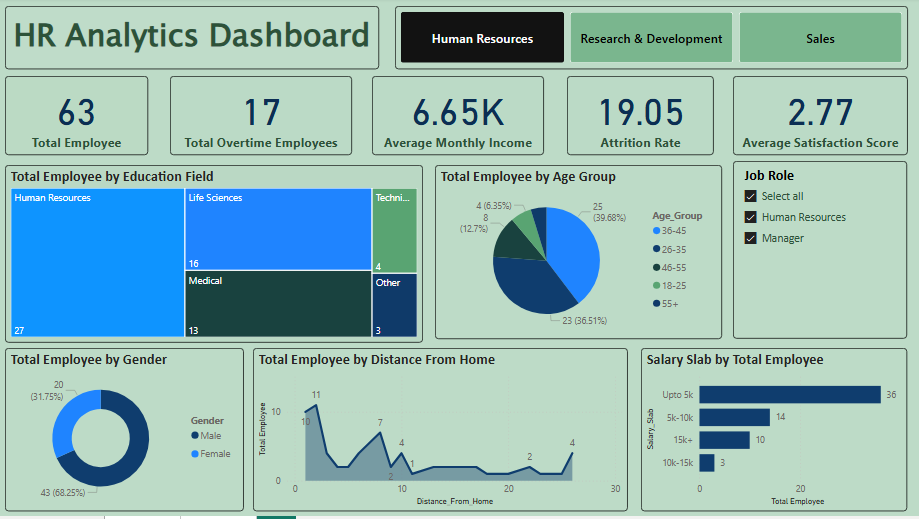

Layout of this report page (visuals, bound fields, positions):
{"tool":"powerbi","page":{"name":"Page 1","canvas":[1280,720],"ordinal":0},"visuals":[{"type":"textbox","box":[9.7,11.1,519.8,87.6],"z":0},{"type":"card","fields":{"Values":["HR_Analytics.Total Employee"]},"box":[9.7,108.4,198.8,109.8],"z":1000},{"type":"card","fields":{"Values":["HR_Analytics.Attrition Rate"]},"box":[790.9,108.4,204.3,109.8],"z":2000},{"type":"card","fields":{"Values":["HR_Analytics.Total Overtime Employees"]},"box":[239.1,108.4,253,109.8],"z":3000},{"type":"card","fields":{"Values":["HR_Analytics.Average Monthly Income"]},"box":[519.8,108.4,239.1,109.8],"z":4000},{"type":"donutChart","fields":{"Category":["HR_Analytics.Gender"],"Y":["HR_Analytics.Total Employee"]},"box":[9.7,486.5,332.2,226.6],"z":5000},{"type":"pieChart","title":"Total Employee by Age Group","fields":{"Category":["HR_Analytics.Age_Group"],"Y":["HR_Analytics.Total Employee"]},"box":[607.4,232.1,398.9,241.9],"z":6000},{"type":"treemap","title":"Total Employee by Education Field","fields":{"Group":["HR_Analytics.Education_Field"],"Values":["HR_Analytics.Total Employee"]},"box":[9.7,232.1,581,247.4],"z":7000},{"type":"advancedSlicerVisual","fields":{"Values":["HR_Analytics.Department"]},"box":[551.8,11.1,713.1,87.6],"z":8000},{"type":"areaChart","title":"Total Employee by Distance From Home","fields":{"Category":["HR_Analytics.Distance_From_Home"],"Y":["HR_Analytics.Total Employee"]},"box":[354.4,486.5,521.2,226.6],"z":9000},{"type":"clusteredBarChart","title":"Salary Slab by Total Employee","fields":{"Category":["HR_Analytics.Salary_Slab"],"Y":["HR_Analytics.Total Employee"]},"box":[893.7,486.5,369.7,226.6],"z":10000},{"type":"slicer","fields":{"Values":["HR_Analytics.Job_Role"]},"box":[1021.6,226.6,241.9,247.4],"z":11000},{"type":"card","fields":{"Values":["HR_Analytics.Average Satisfaction Score"]},"box":[1021.6,108.4,243.2,109.8],"z":13000}]}

Visuals, with their boxes in screenshot pixels (x1, y1, x2, y2), scaled from the page's 1280x720 canvas onto the 919x519 screenshot:
textbox: [left=7, top=8, right=380, bottom=71]
card - HR_Analytics.Total Employee: [left=7, top=78, right=150, bottom=157]
card - HR_Analytics.Attrition Rate: [left=568, top=78, right=715, bottom=157]
card - HR_Analytics.Total Overtime Employees: [left=172, top=78, right=353, bottom=157]
card - HR_Analytics.Average Monthly Income: [left=373, top=78, right=545, bottom=157]
donutChart - HR_Analytics.Gender x HR_Analytics.Total Employee: [left=7, top=351, right=245, bottom=514]
"Total Employee by Age Group" pieChart: [left=436, top=167, right=722, bottom=342]
"Total Employee by Education Field" treemap: [left=7, top=167, right=424, bottom=346]
advancedSlicerVisual - HR_Analytics.Department: [left=396, top=8, right=908, bottom=71]
"Total Employee by Distance From Home" areaChart: [left=254, top=351, right=629, bottom=514]
"Salary Slab by Total Employee" clusteredBarChart: [left=642, top=351, right=907, bottom=514]
slicer - HR_Analytics.Job_Role: [left=733, top=163, right=907, bottom=342]
card - HR_Analytics.Average Satisfaction Score: [left=733, top=78, right=908, bottom=157]
